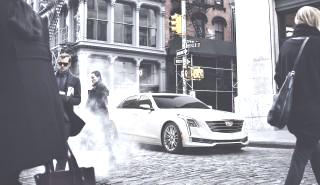cadillac: (222, 120, 237, 128)
